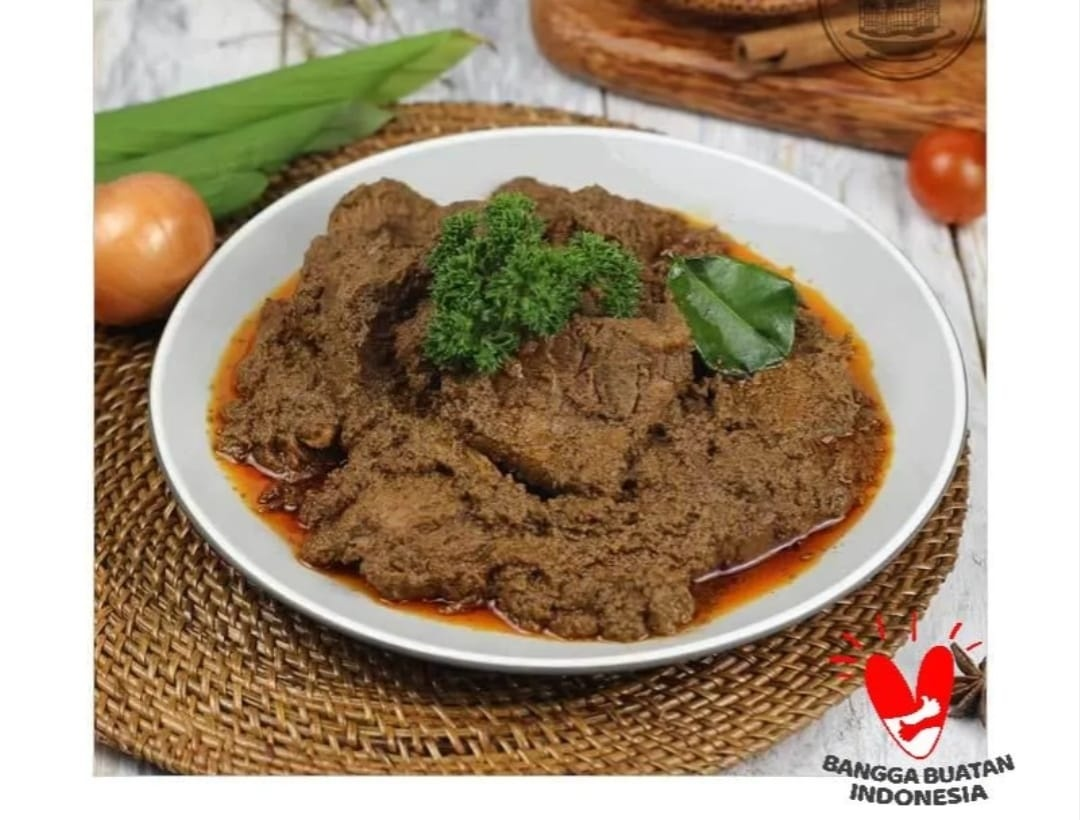rendang: (230, 173, 820, 607)
